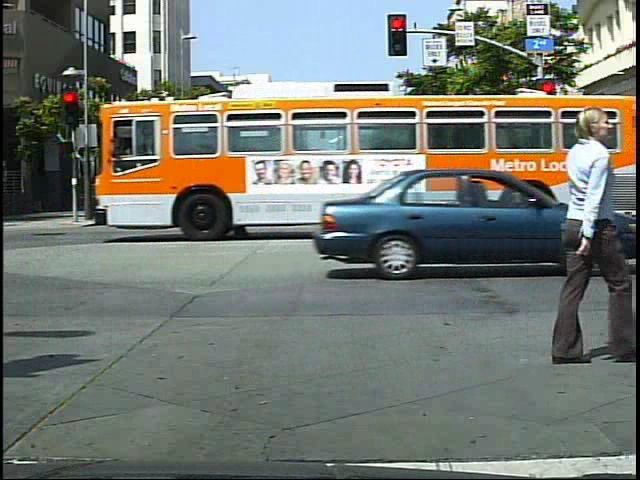person: (531, 92, 620, 395), (301, 165, 333, 229), (323, 166, 353, 230), (206, 167, 235, 233), (548, 160, 571, 211)
